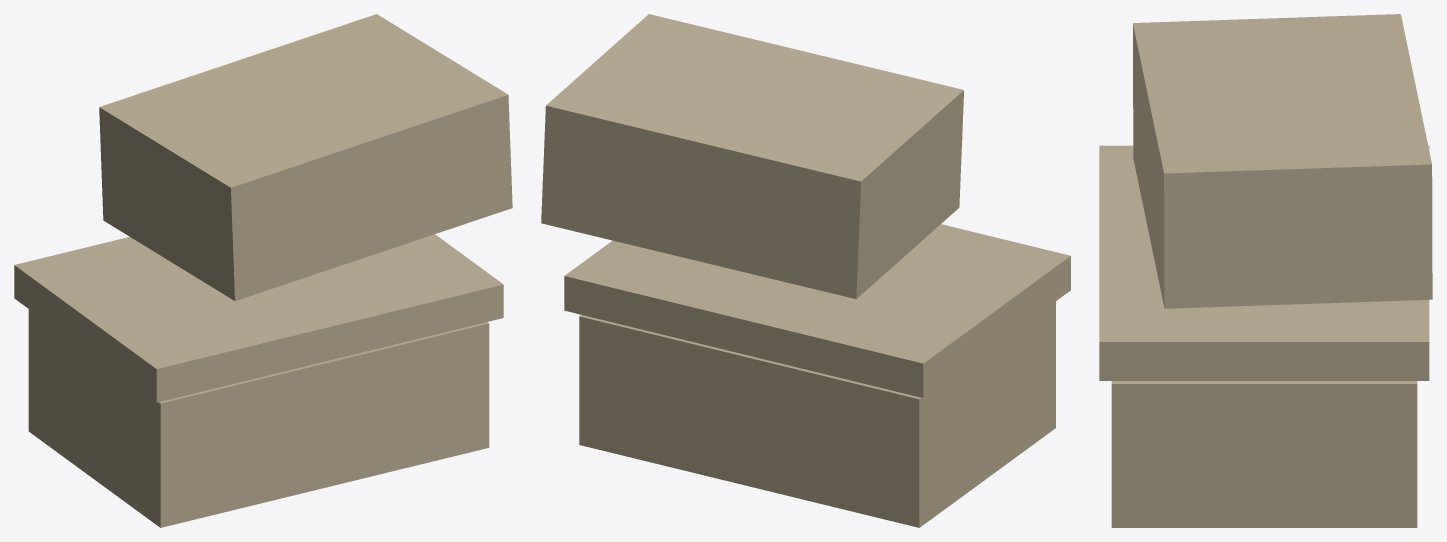
The model's file is shoebox_pair.glb.
3 views of the same model, side by side, from view 1: azimuth 30°, elevation 25°; view 2: azimuth 150°, elevation 25°; view 3: azimuth 270°, elevation 25° (orthographic). The views are drawn at different scales.
Visible parts, largest first — view 1: paper__second_box, paper__box_bottom, paper__box_lid; view 2: paper__second_box, paper__box_bottom, paper__box_lid; view 3: paper__second_box, paper__box_bottom, paper__box_lid.
Boxes of the visible parts, x1=… form: paper__second_box: x1=99, y1=14, x2=512, y2=300; paper__box_bottom: x1=28, y1=309, x2=489, y2=527; paper__box_lid: x1=14, y1=234, x2=503, y2=402; paper__second_box: x1=541, y1=14, x2=963, y2=299; paper__box_bottom: x1=579, y1=301, x2=1055, y2=527; paper__box_lid: x1=564, y1=224, x2=1070, y2=398; paper__second_box: x1=1133, y1=14, x2=1432, y2=308; paper__box_bottom: x1=1111, y1=381, x2=1417, y2=527; paper__box_lid: x1=1099, y1=145, x2=1429, y2=380.
Bounding box in the file's own units: 0.4205 × 0.3414 × 0.2726.
